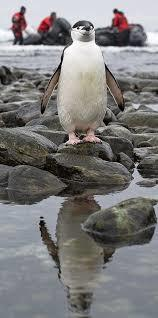chinstrap: (30, 9, 139, 156)
